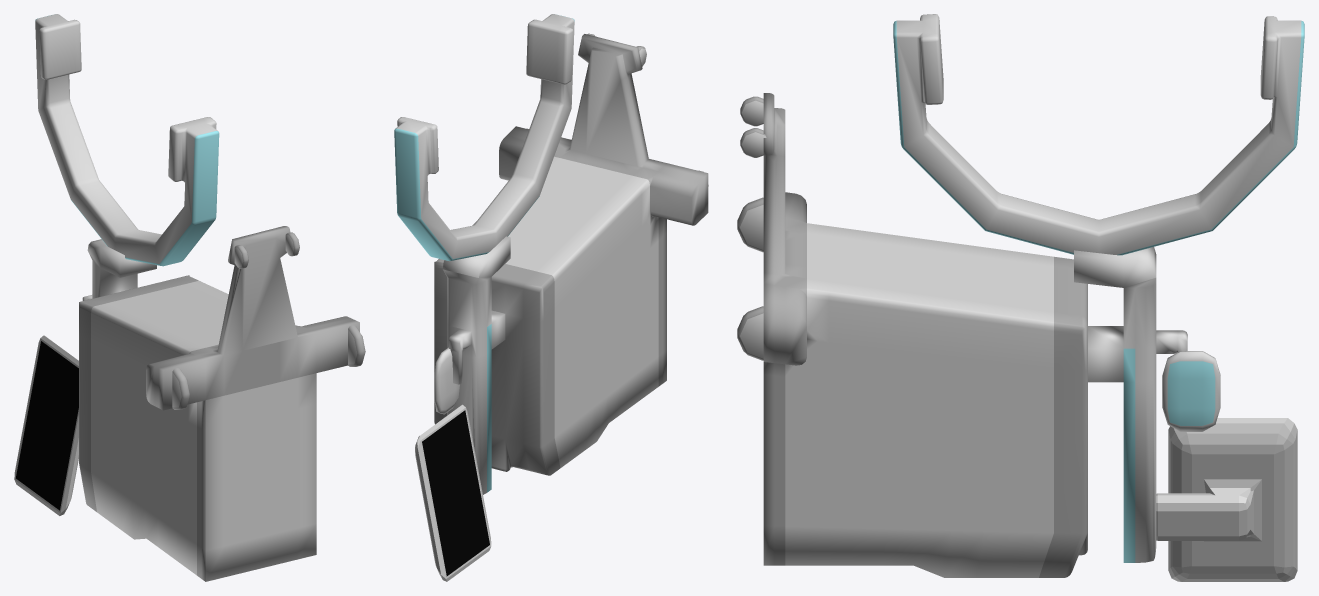
The picture shows the model from 3 angles, left to right: view 1: azimuth 30°, elevation 25°; view 2: azimuth 150°, elevation 25°; view 3: azimuth 270°, elevation 25°; orthographic projection. The views are drawn at different scales.
Parts seen in each view (by area): view 1: Circle.004; view 2: Circle.004; view 3: Circle.004.
Part boxes in pixels (x1=…): Circle.004: x1=14, y1=14, x2=365, y2=581; Circle.004: x1=394, y1=14, x2=708, y2=581; Circle.004: x1=737, y1=14, x2=1304, y2=581.
Size of the model in its own units: 88.64 by 197 by 175.
